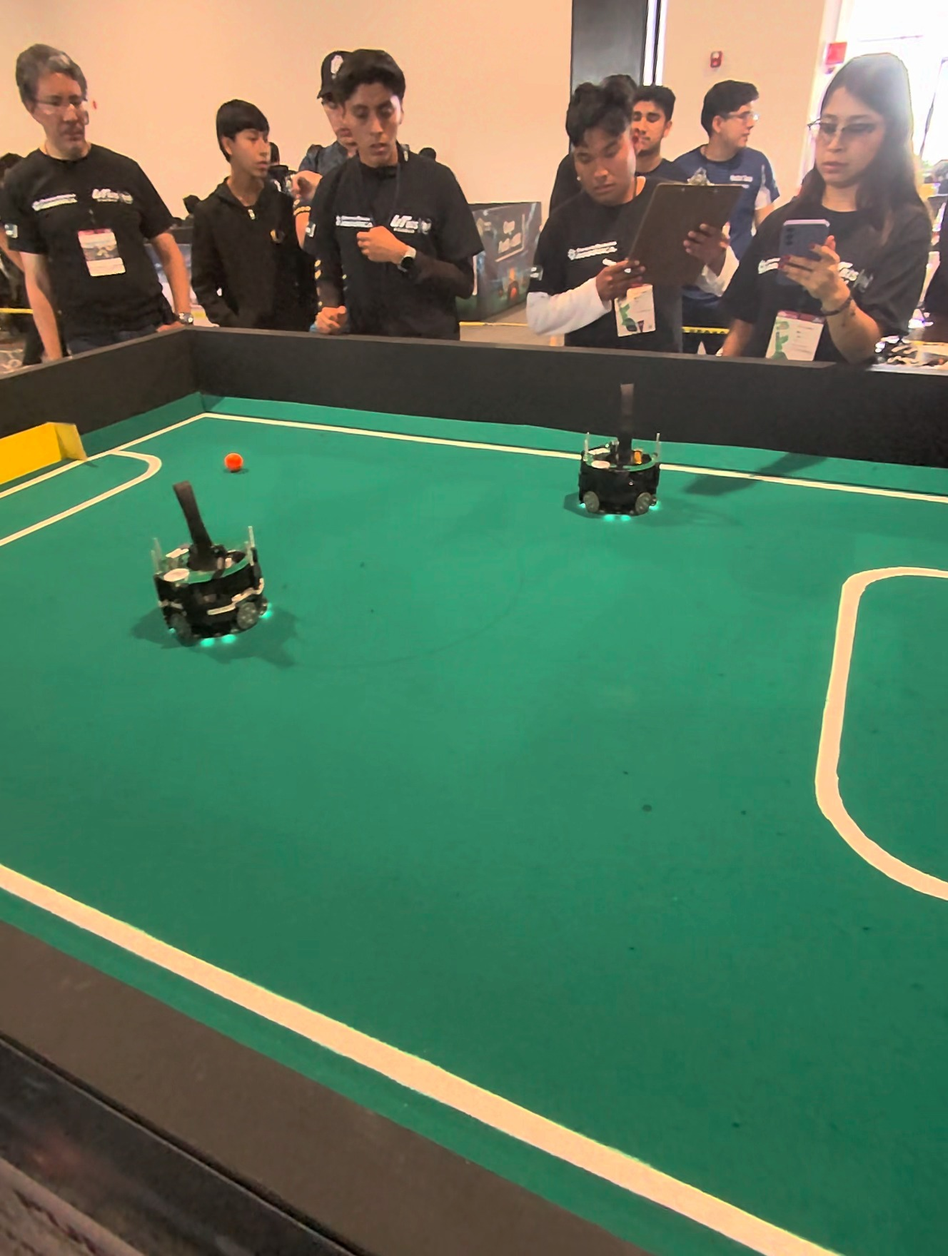Robot: (144, 471, 280, 662), (574, 376, 665, 525)
pelota: (222, 453, 243, 477)
